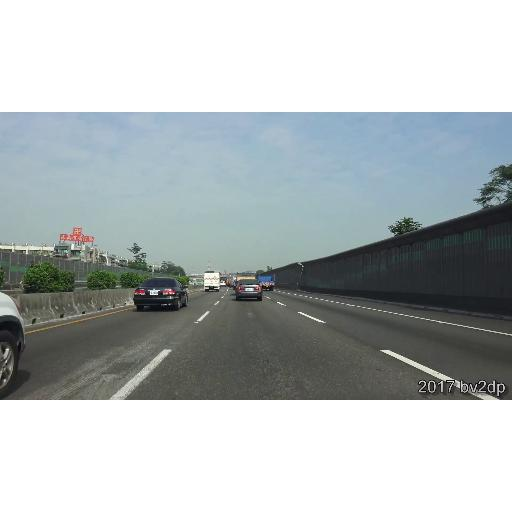Car: (0, 291, 26, 392), (134, 278, 188, 310), (235, 279, 263, 301), (204, 272, 220, 292), (258, 276, 274, 292), (220, 281, 226, 287)
